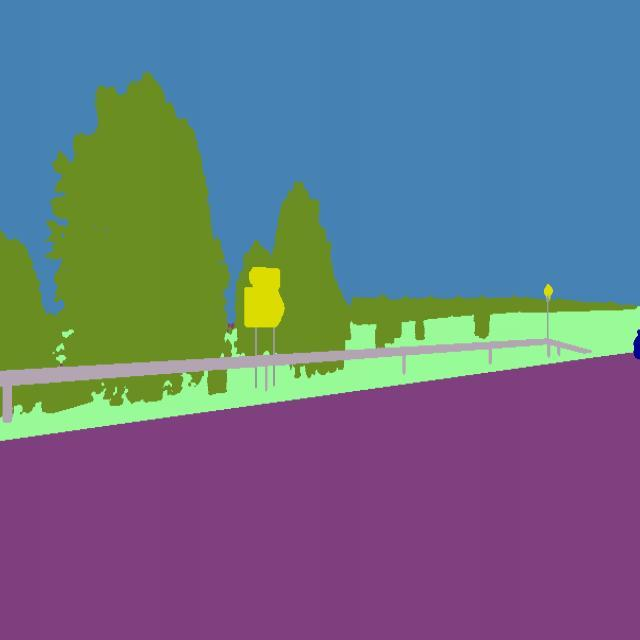safe: (633, 309, 640, 366)
